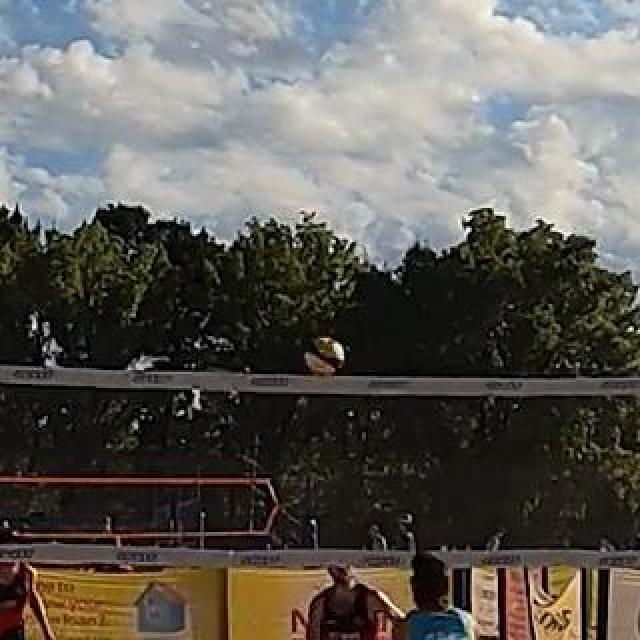volleyball: (305, 337, 343, 375)
